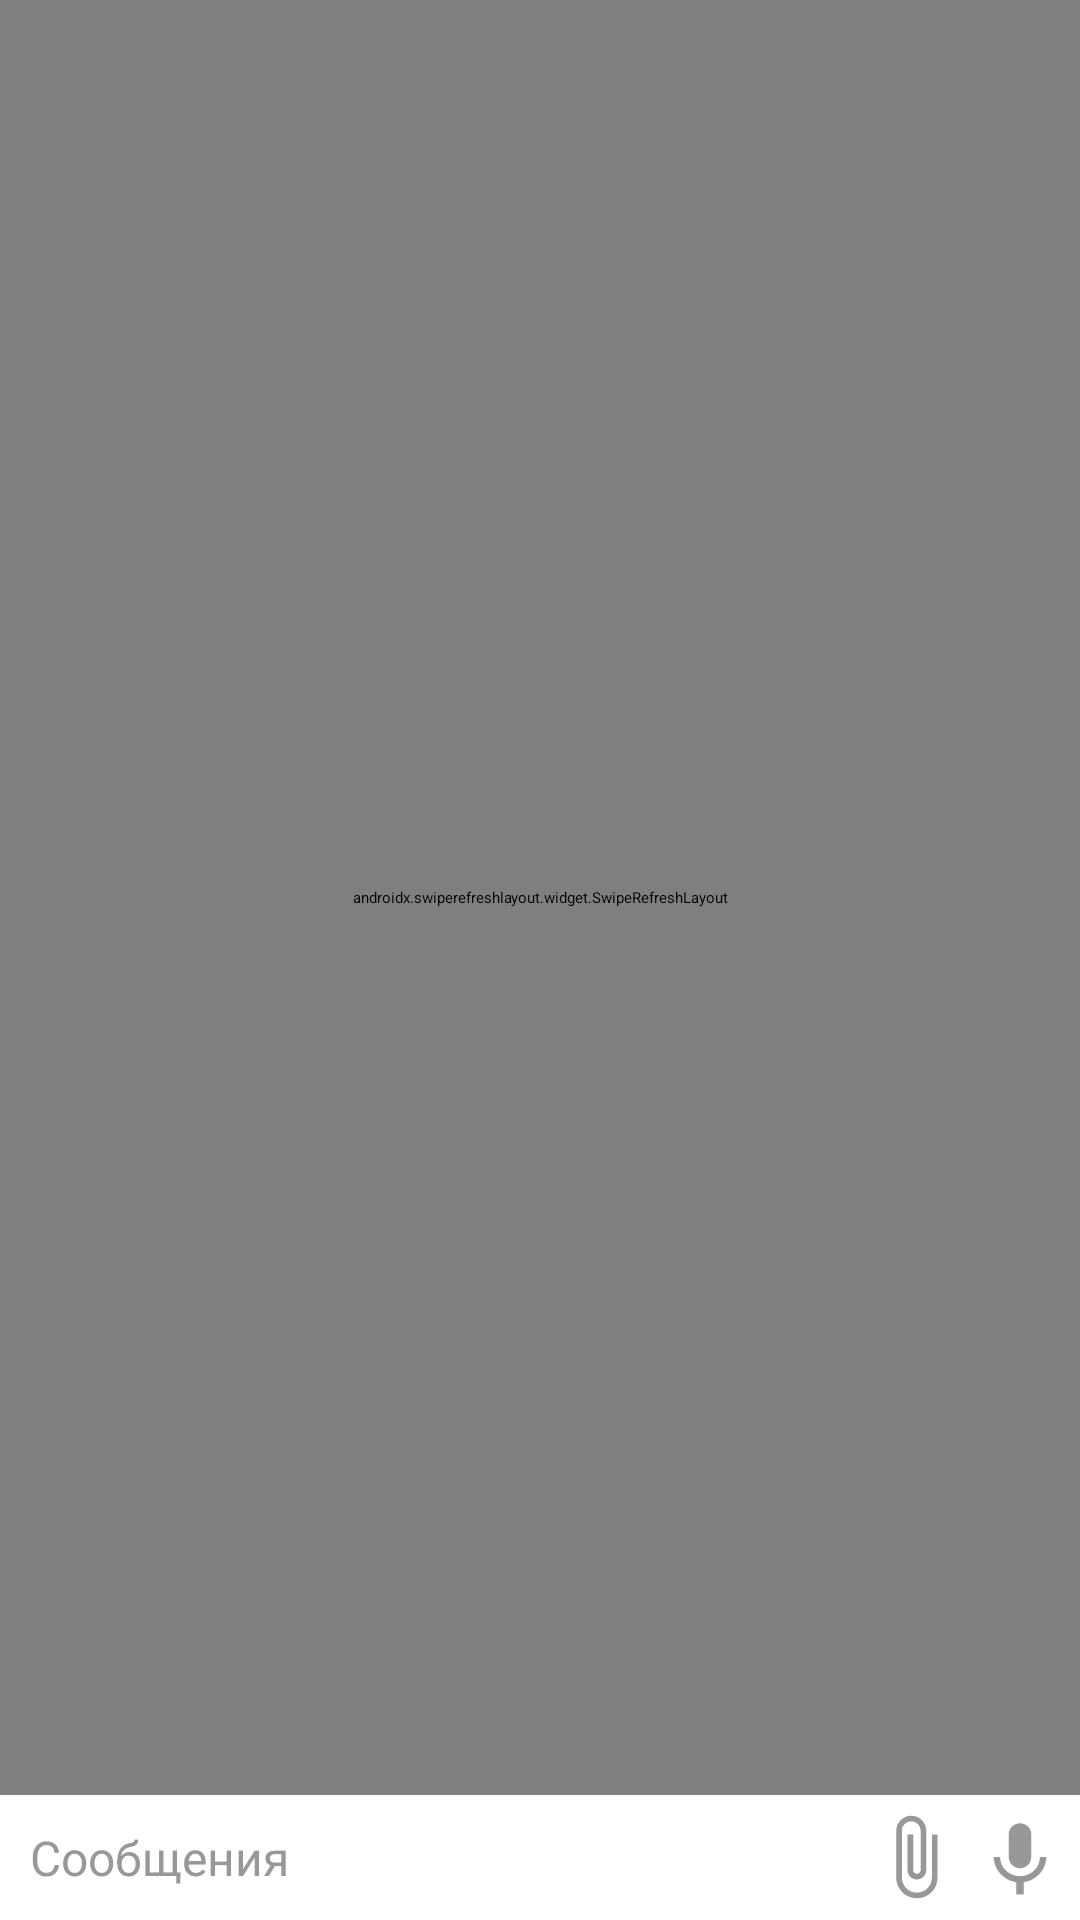

Named icons in this screenshot (1080w x 1920h) and their centers, (x=x, y=y):
attach: (x=917, y=1857)
voice: (x=1020, y=1859)
